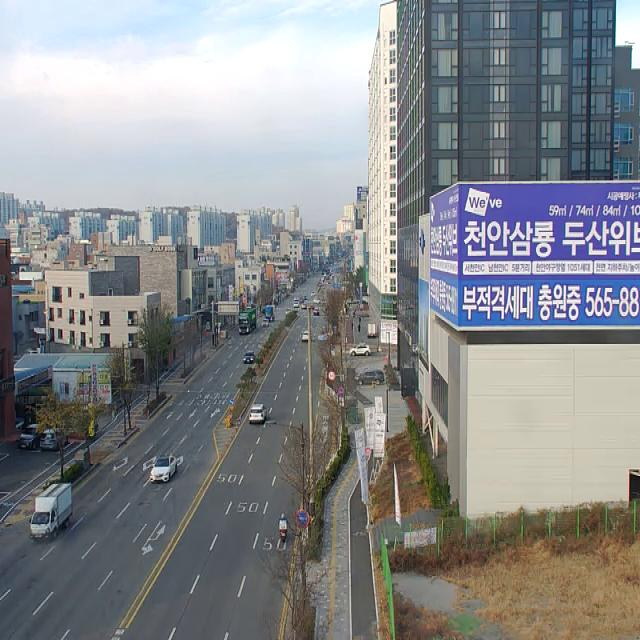Car: (150, 456, 177, 482), (40, 427, 66, 451), (17, 424, 40, 450), (355, 368, 385, 384), (249, 404, 267, 423), (349, 344, 372, 356), (243, 350, 256, 364), (302, 331, 308, 342), (262, 319, 269, 327), (313, 308, 320, 316)
Motorcycle: (279, 512, 288, 542)
Truck: (29, 483, 73, 541), (238, 309, 256, 336), (262, 305, 275, 322), (368, 319, 379, 336)
